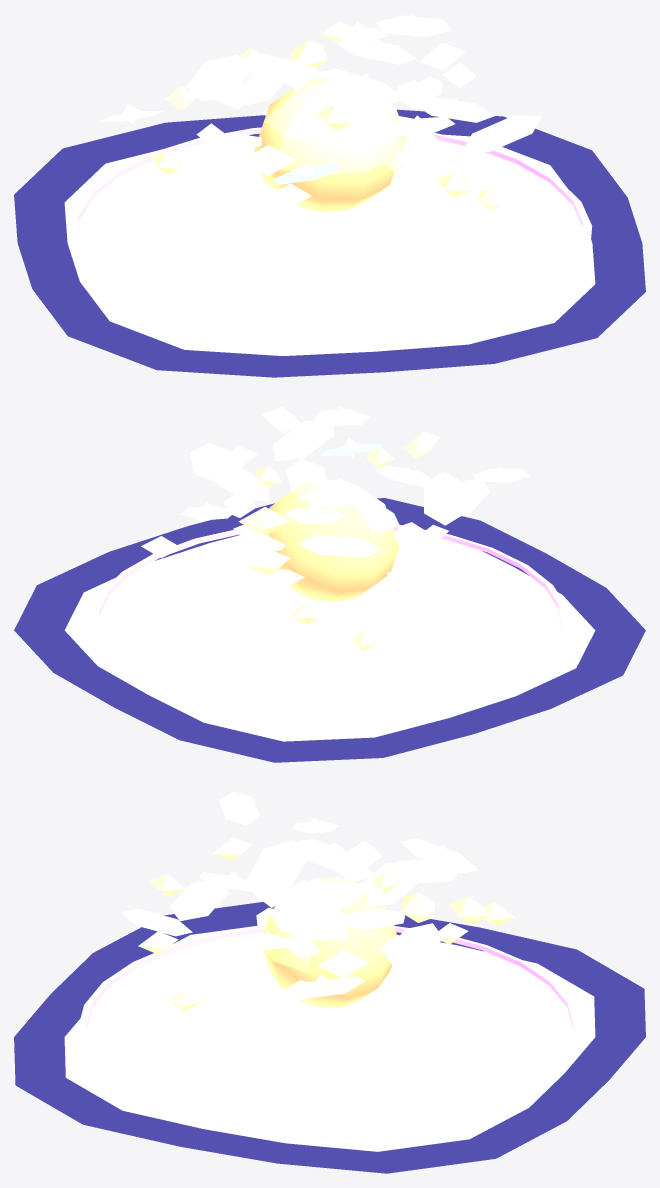
Rendered from galaxy_cluster.glb.
The picture shows the model from 3 angles, top to bottom: view 1: azimuth 30°, elevation 25°; view 2: azimuth 150°, elevation 25°; view 3: azimuth 270°, elevation 25°; orthographic projection. The views are drawn at different scales.
Visible parts, largest first — view 1: body; view 2: body; view 3: body.
Part boxes in pixels (x1=…): body: x1=14, y1=14, x2=645, y2=377; body: x1=14, y1=406, x2=645, y2=762; body: x1=14, y1=791, x2=645, y2=1173.
Bounding box in the file's own units: 205 × 71.67 × 200.
